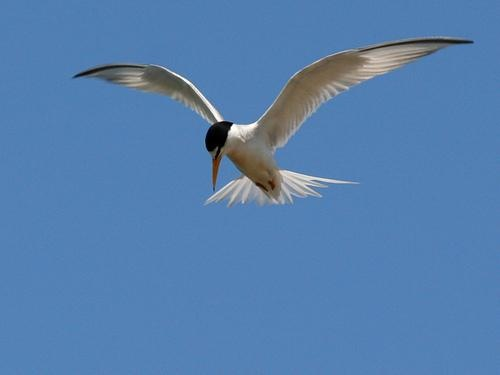bird: (67, 36, 473, 210)
